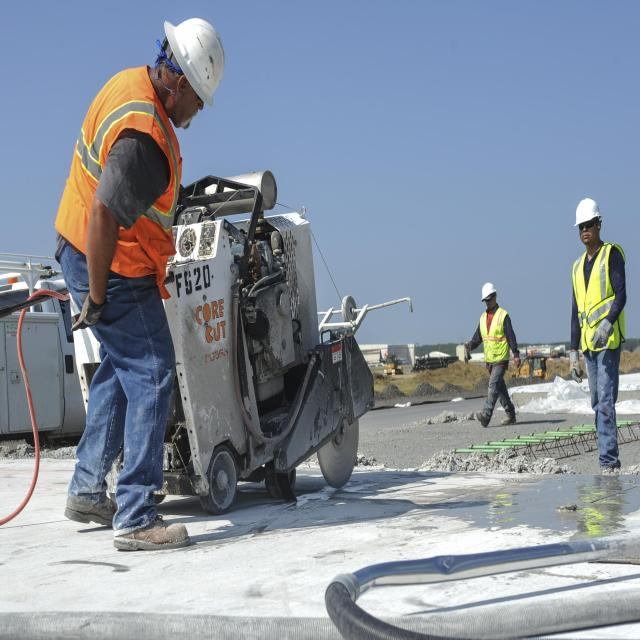vest: (66, 59, 188, 284), (567, 242, 626, 356), (476, 306, 513, 360)
